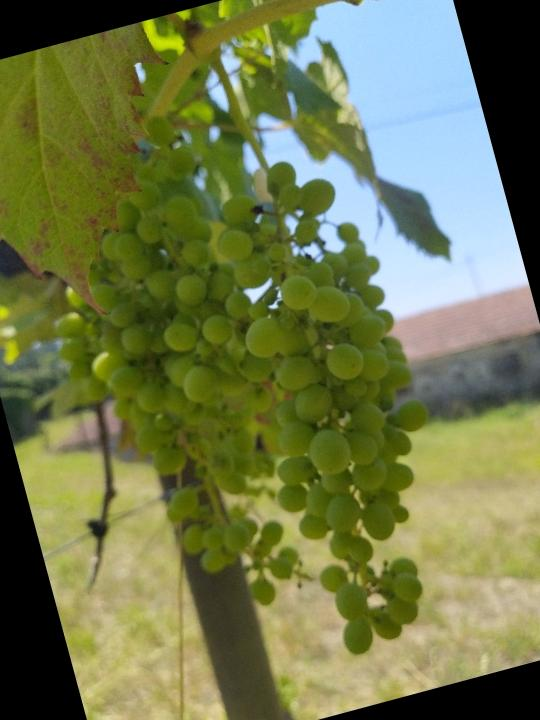grape: (6, 103, 323, 641), (199, 140, 488, 666)
